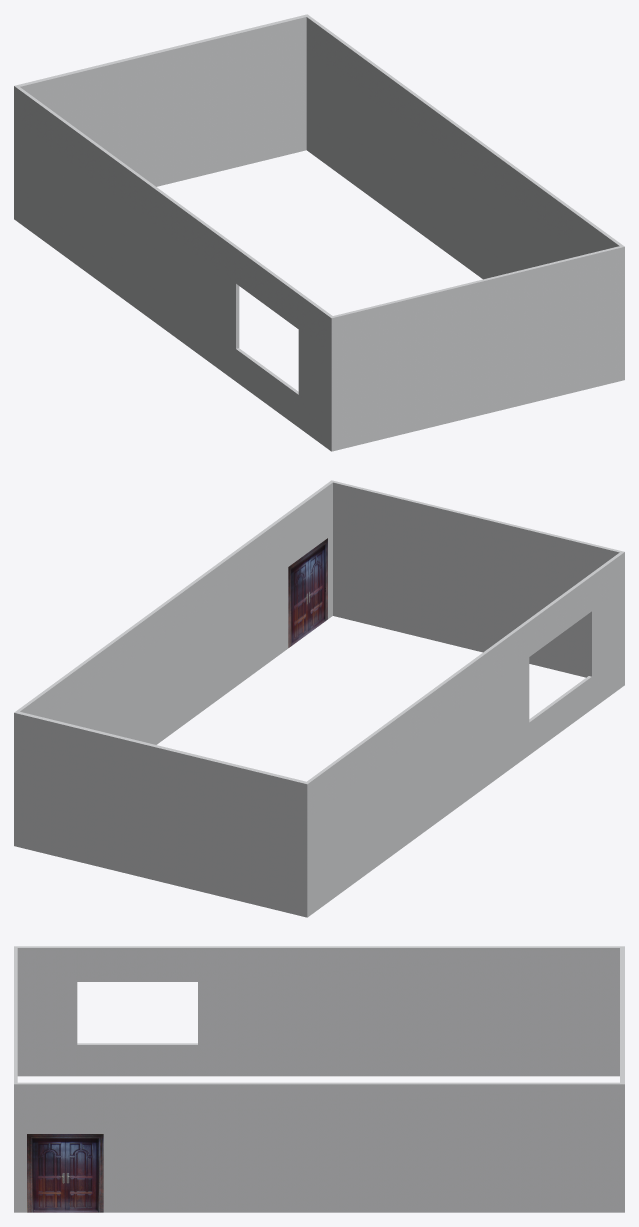
Rendered from QiangBi.FBX.
3 renders of one model, top to bottom at view 1: azimuth 30°, elevation 25°; view 2: azimuth 150°, elevation 25°; view 3: azimuth 270°, elevation 25°, orthographic. The views are drawn at different scales.
Visible parts, largest first — view 1: FangWu01; view 2: FangWu01; view 3: FangWu01.
Part boxes in pixels (x1,y1,x2,y2): FangWu01: (14, 14, 624, 451); FangWu01: (14, 480, 624, 917); FangWu01: (14, 946, 624, 1212).
Bounding box in the file's own units: 8067 × 3504 × 15122.
Materials: 2 (2 with a texture image).
